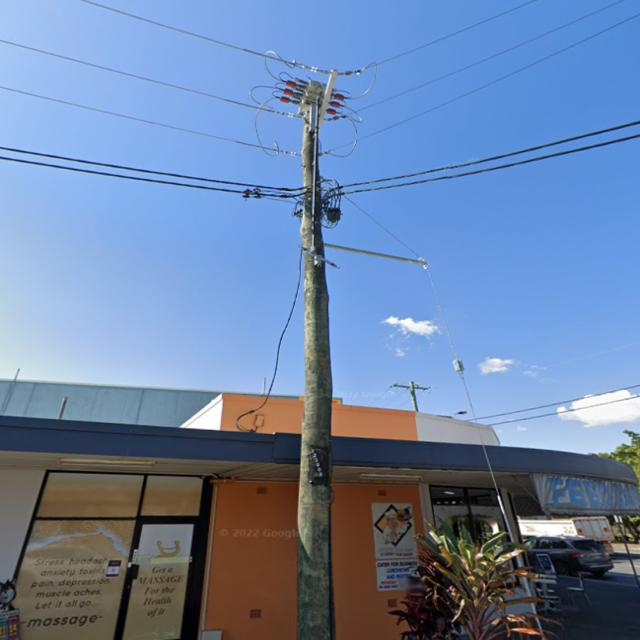HV-switch: (272, 77, 348, 133)
HV-transmission: (278, 65, 363, 157)
crossarm: (318, 67, 339, 127)
timber-pole: (296, 124, 336, 640)
